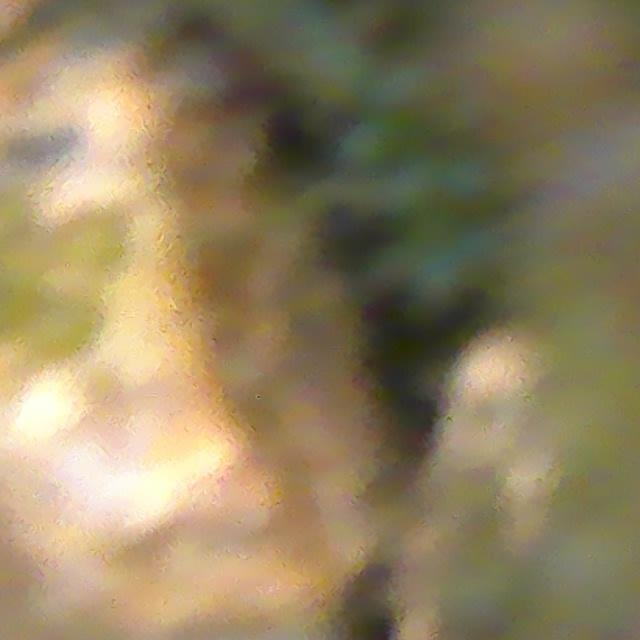SeaGrape: (66, 207, 119, 274), (31, 301, 91, 341)
